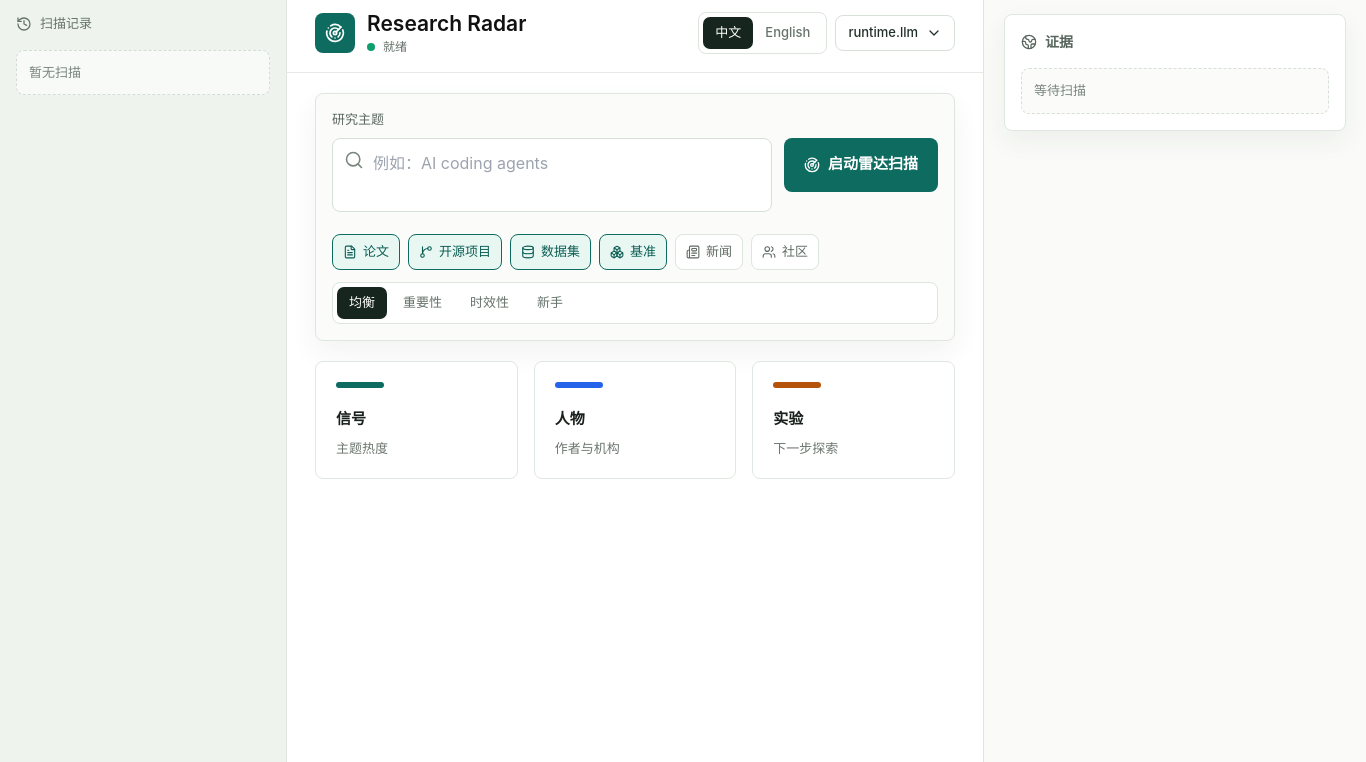
Test: Research Radar POC page › localizes the generic fallback scan error in English
Click the button "English" at (788, 33), box [753,17,822,49]
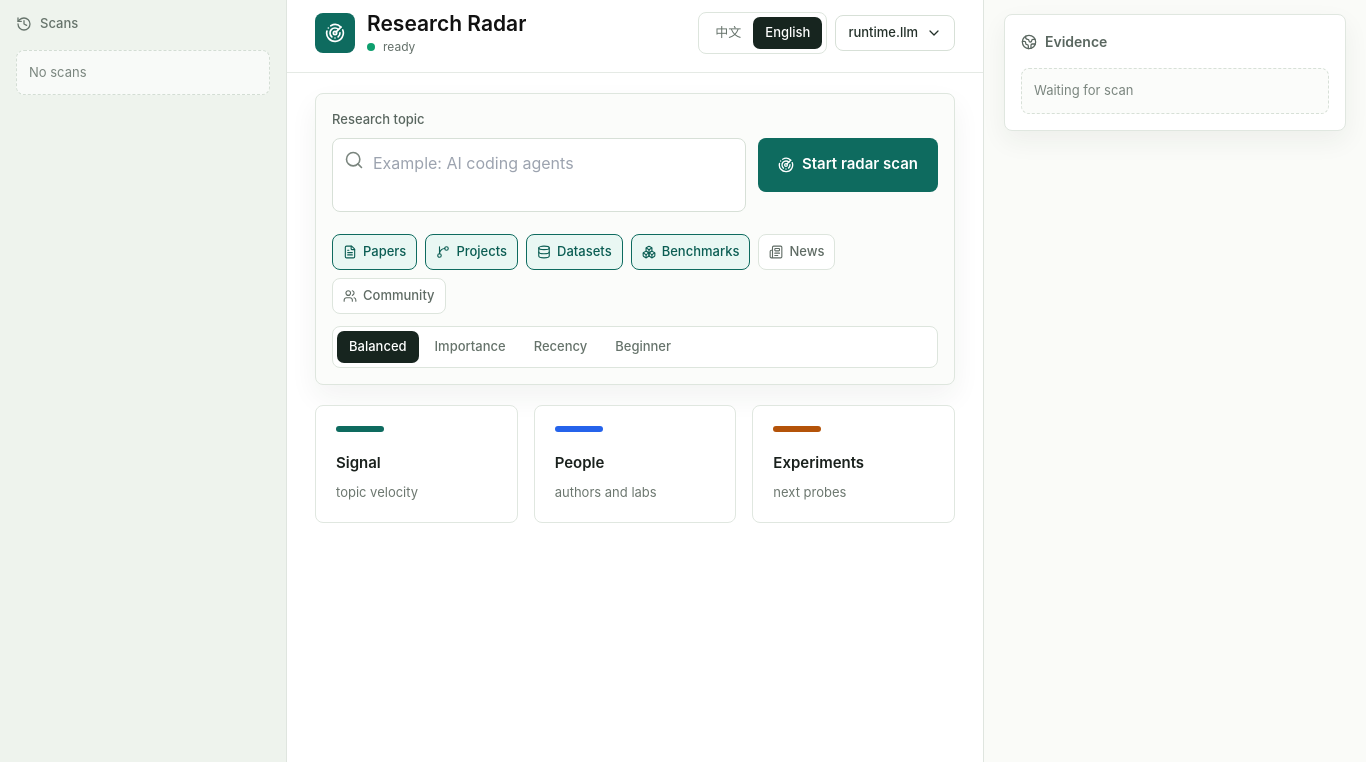
Type "AI coding agents" into the text box labelled "Research topic" at (539, 174), box [332,138,746,212]
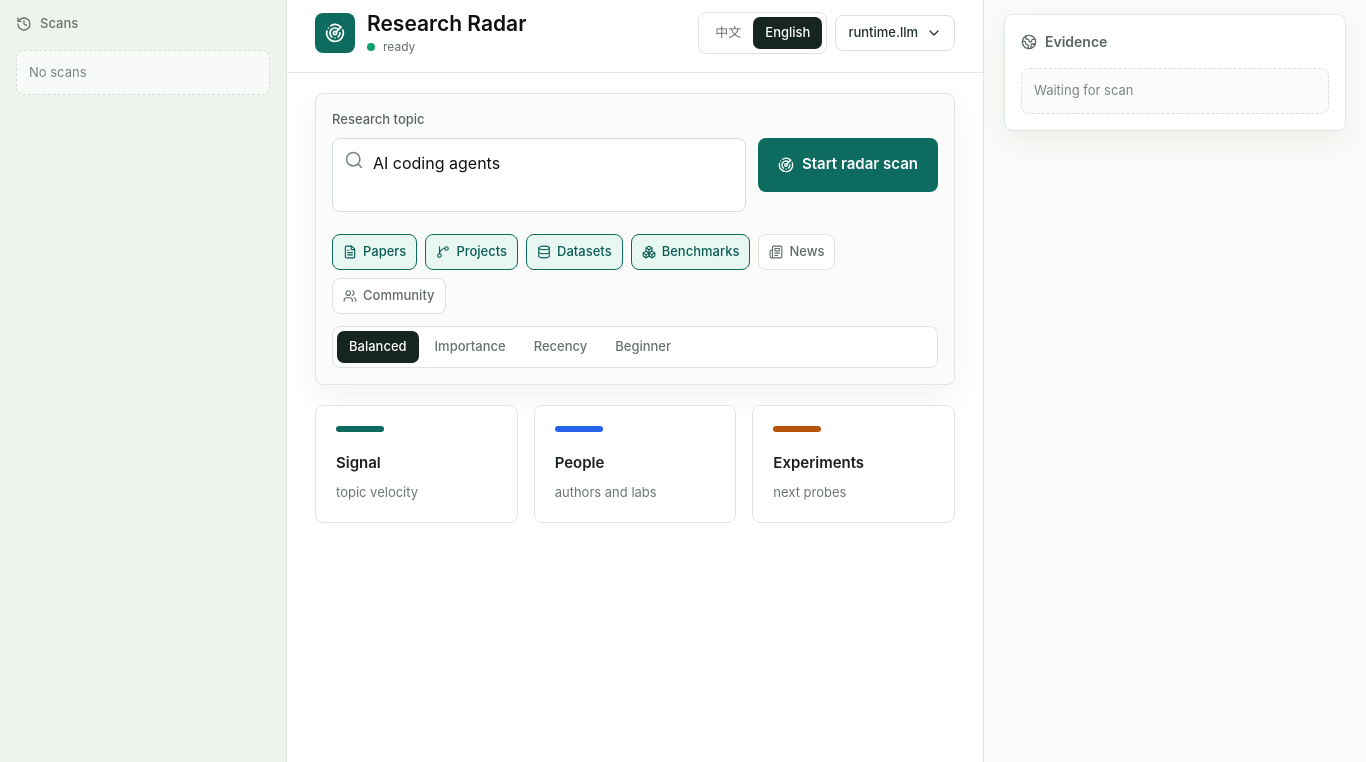
Click the button "Start radar scan" at (848, 164), box [758,138,938,192]
(page scrolled)
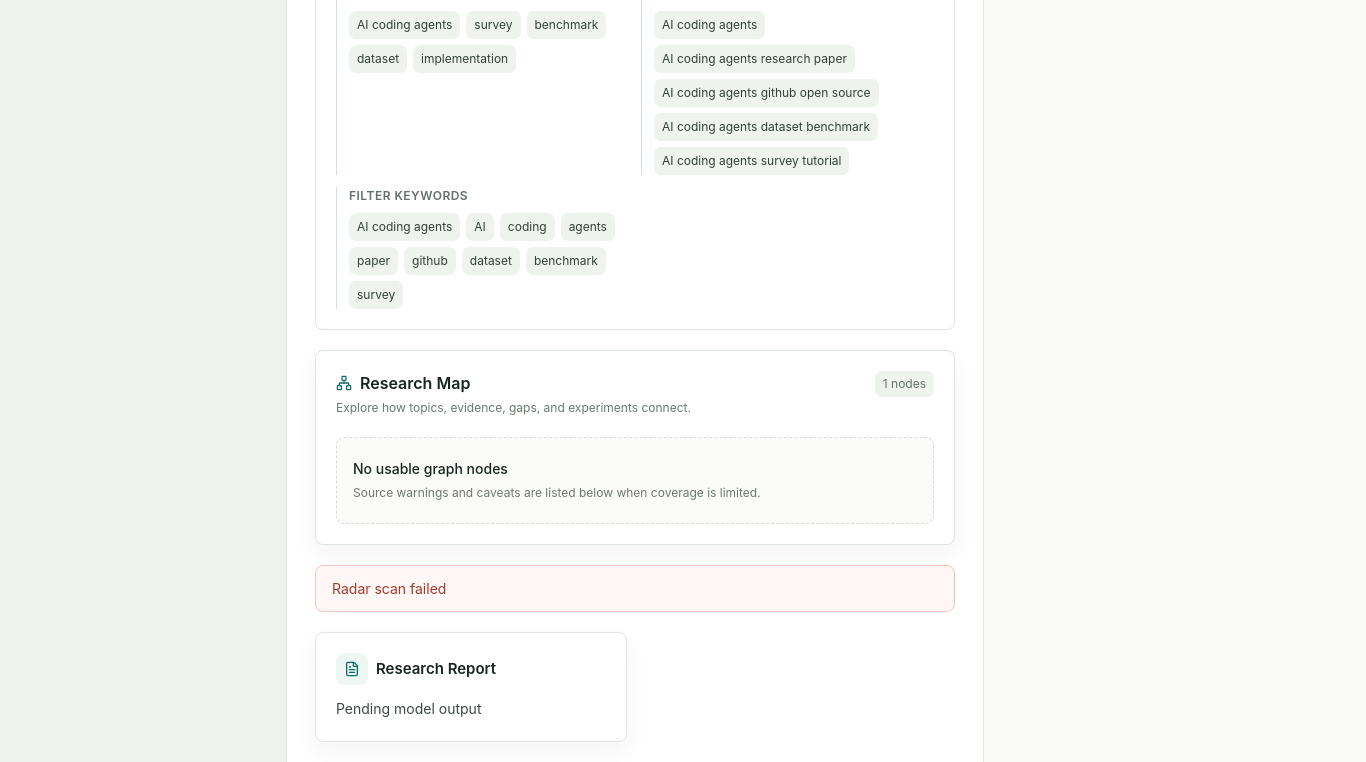
Expected: the message reads "Radar scan failed", [332,580,446,597]
